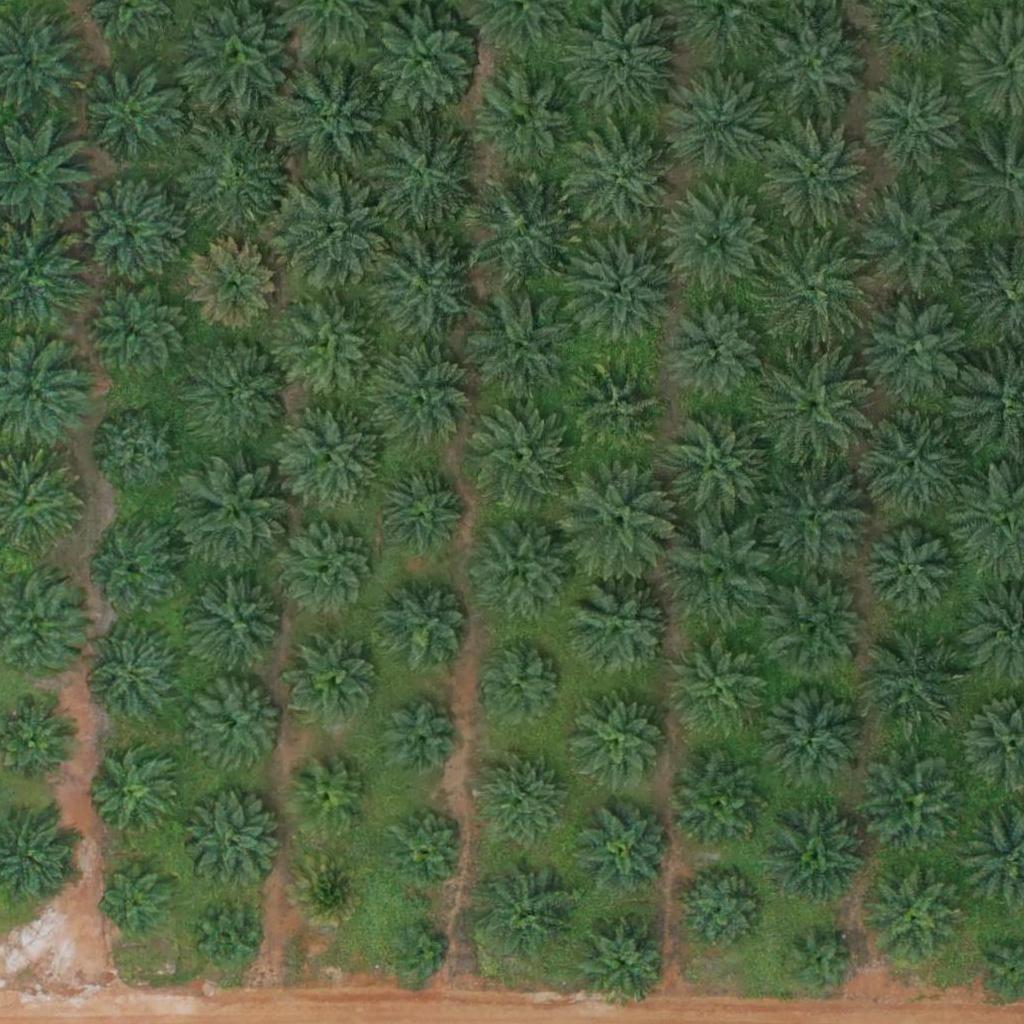Kelapa_Sawit: (666, 66, 779, 180), (273, 66, 386, 179), (276, 176, 389, 289), (562, 8, 675, 121), (569, 126, 682, 239), (662, 185, 775, 298), (757, 352, 870, 465), (756, 457, 869, 570), (659, 406, 772, 519), (368, 229, 481, 342), (759, 6, 871, 120), (758, 123, 870, 237), (861, 184, 973, 298), (182, 121, 294, 234), (369, 2, 481, 115), (364, 115, 476, 228), (465, 175, 577, 288), (753, 232, 865, 345), (856, 411, 968, 524), (665, 513, 777, 626), (563, 462, 675, 575), (462, 401, 574, 514), (858, 296, 970, 409), (562, 229, 674, 342), (466, 288, 578, 401), (184, 464, 296, 577), (80, 64, 180, 165), (477, 68, 577, 169), (863, 628, 963, 729), (865, 754, 965, 855), (865, 866, 965, 967), (771, 578, 871, 679), (765, 686, 865, 787), (766, 808, 866, 909), (672, 635, 772, 736), (671, 752, 771, 853), (570, 577, 670, 678), (569, 693, 669, 794), (473, 521, 573, 622), (370, 343, 470, 444), (281, 294, 381, 395), (88, 280, 188, 381), (190, 340, 290, 441), (80, 180, 180, 280), (864, 71, 964, 171), (572, 910, 672, 1010), (478, 860, 578, 960), (280, 406, 380, 506), (278, 517, 378, 617), (188, 674, 288, 774), (184, 792, 284, 892), (573, 363, 661, 452), (677, 866, 765, 954), (291, 637, 379, 725), (188, 241, 276, 329), (194, 577, 282, 665), (865, 530, 952, 618), (582, 806, 669, 894), (476, 637, 563, 725), (478, 749, 565, 837), (375, 467, 462, 555), (381, 586, 468, 674), (674, 306, 761, 394), (96, 408, 183, 496), (97, 526, 184, 614), (88, 632, 175, 720), (94, 751, 181, 839), (291, 762, 366, 838), (381, 701, 456, 777), (783, 925, 858, 1001), (388, 810, 463, 886), (292, 851, 367, 927), (190, 900, 265, 976), (100, 859, 175, 934), (390, 923, 452, 986)
